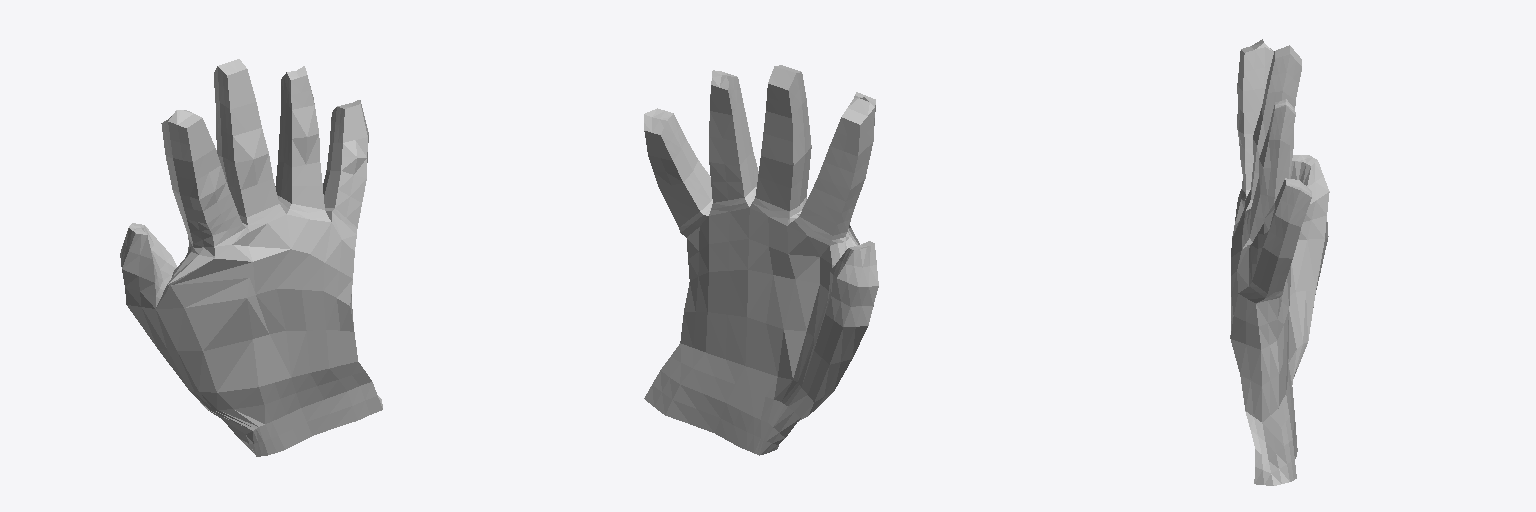
The model's file is grip0004.obj.
The picture shows the model from 3 angles: view 1: azimuth 30°, elevation 25°; view 2: azimuth 150°, elevation 25°; view 3: azimuth 270°, elevation 25°; orthographic projection.
Parts seen in each view (by area): view 1: Hand; view 2: Hand; view 3: Hand.
Part boxes in pixels (x1,y1,x2,y2): Hand: (120, 59, 382, 456); Hand: (644, 65, 878, 455); Hand: (1230, 39, 1329, 485).
Bounding box in the file's own units: 3.24 × 4.96 × 1.14.